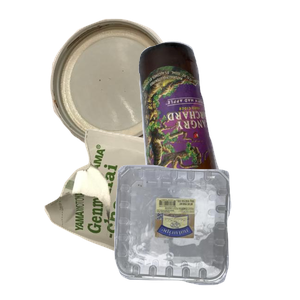glass: (136, 39, 300, 219)
metal: (47, 16, 214, 157)
plastic: (112, 162, 300, 300)
trash: (42, 126, 249, 300)
